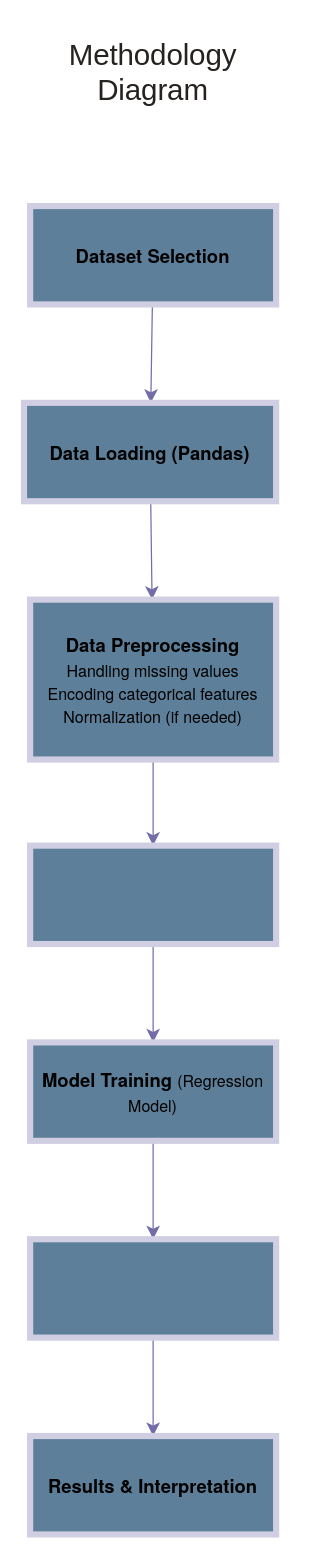
Image size: 310x1558. Some labels were removed from this diagram. Here are the shapes that lost their labels. From the top down, the centre of each, then its label:
(x=152, y=894): Train/Test Split
(x=152, y=1288): Model Evaluation (MAE, MSE, R²)
